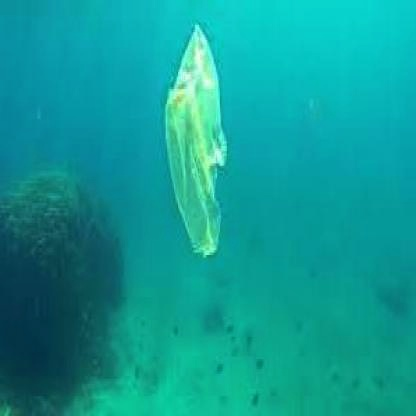pbag: (160, 15, 235, 265)
